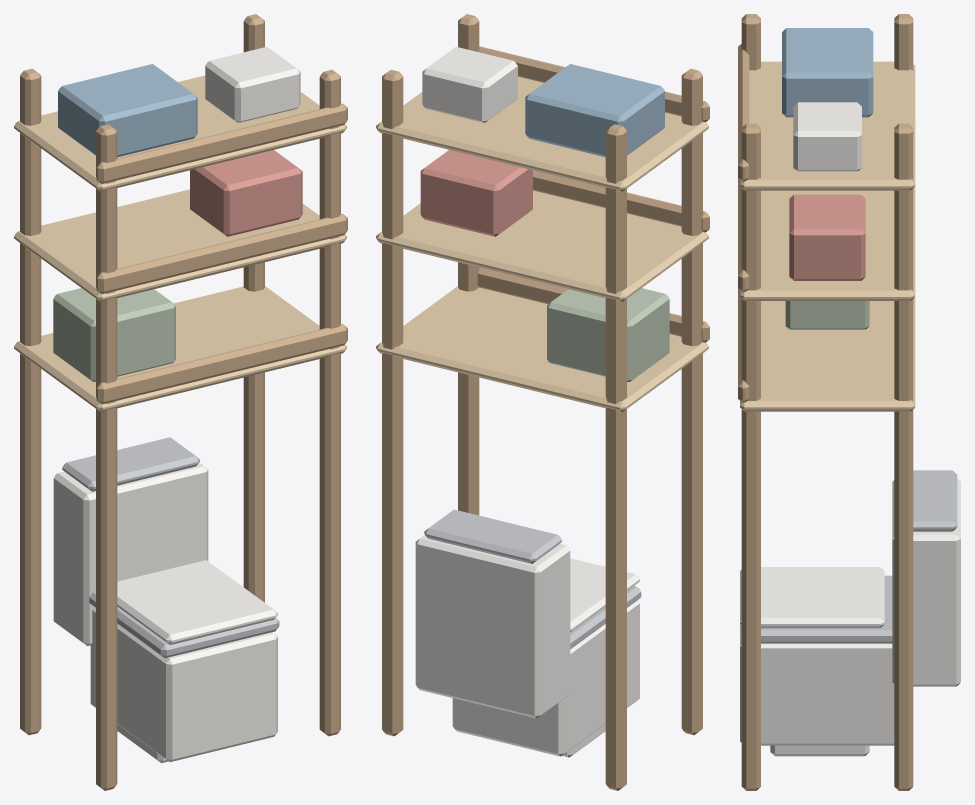
The model's file is OverToiletShelf.glb.
The picture shows the model from 3 angles, left to right: view 1: azimuth 30°, elevation 25°; view 2: azimuth 150°, elevation 25°; view 3: azimuth 270°, elevation 25°; orthographic projection.
Visible parts, largest first — view 1: SpaceSaver_OverToiletShelf; view 2: SpaceSaver_OverToiletShelf; view 3: SpaceSaver_OverToiletShelf.
Part boxes in pixels (<box>): SpaceSaver_OverToiletShelf: <box>14,14,347,790</box>; SpaceSaver_OverToiletShelf: <box>376,14,709,790</box>; SpaceSaver_OverToiletShelf: <box>738,14,960,790</box>.
Size of the model in its own units: 0.76 by 1.92 by 0.585.
